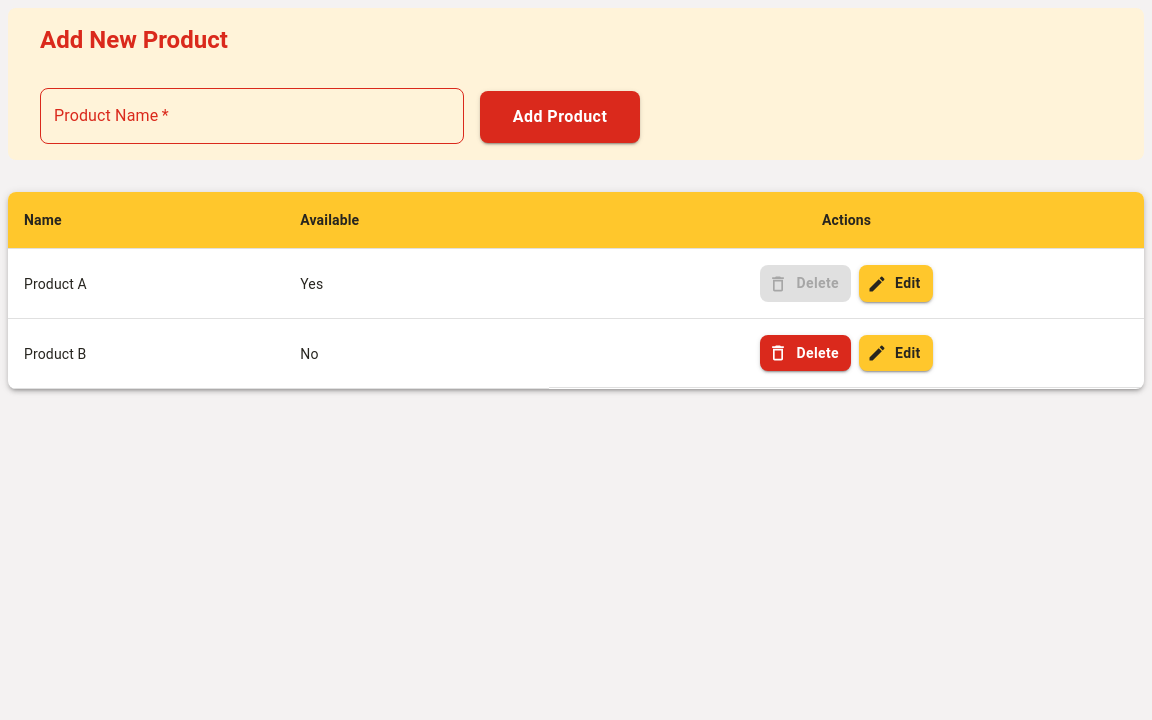
it: ManageProductsPage › opens confirmation dialog when trying to delete a product
Click the button "Delete" in the row of "Product B": [806, 353] box [760, 335, 851, 371]
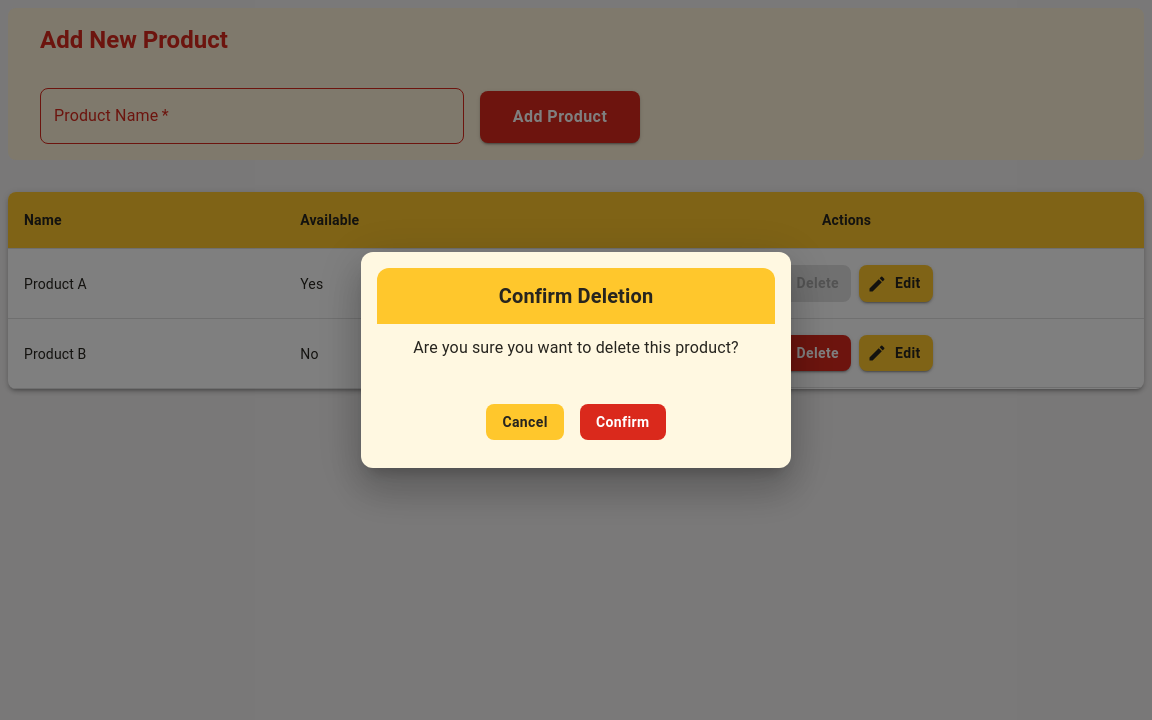
Check: the heading "Confirm Deletion" is shown, box [377, 268, 775, 324]
